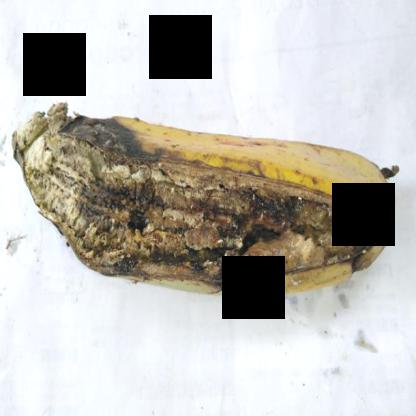rotten: (22, 93, 388, 321)
